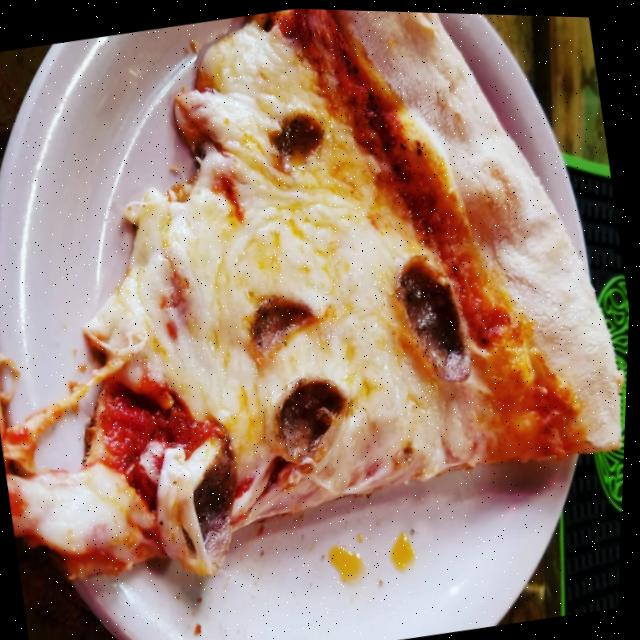pepperoni: (162, 409, 264, 585), (389, 235, 488, 393), (264, 359, 366, 467), (240, 281, 329, 356), (265, 105, 343, 171)
pizza: (0, 0, 640, 617)
